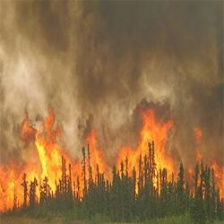fire: (1, 119, 222, 205)
smoke: (1, 4, 204, 113)
